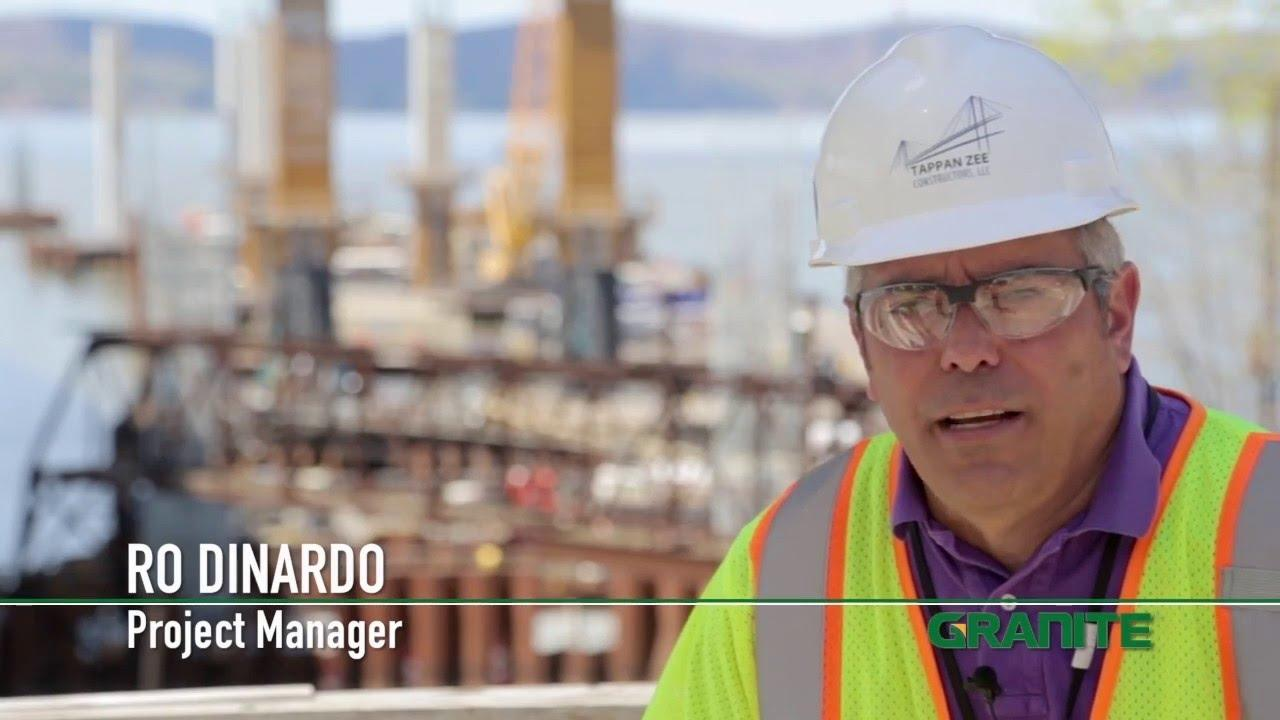helmet: (812, 26, 1143, 264)
wear: (658, 465, 1280, 720)
